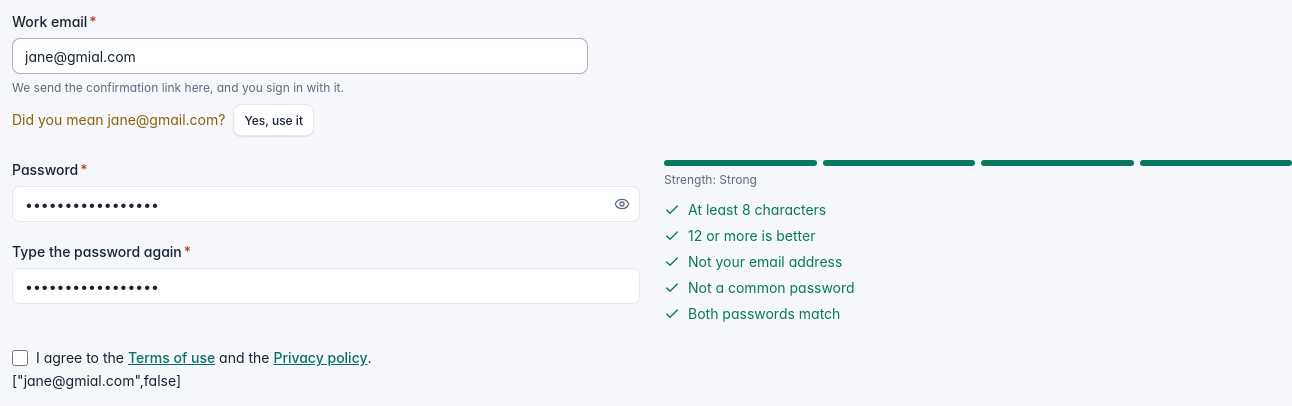
Test: step 3: your account › suggests the right domain for a typo and applies it on request
The image size is (1292, 406).
Check: the text "Did you mean jane@gmail.com?" is shown, box 12,111 -> 225,128
Click the button "Yes, use it" at point(274, 120), box 233,104 -> 314,136
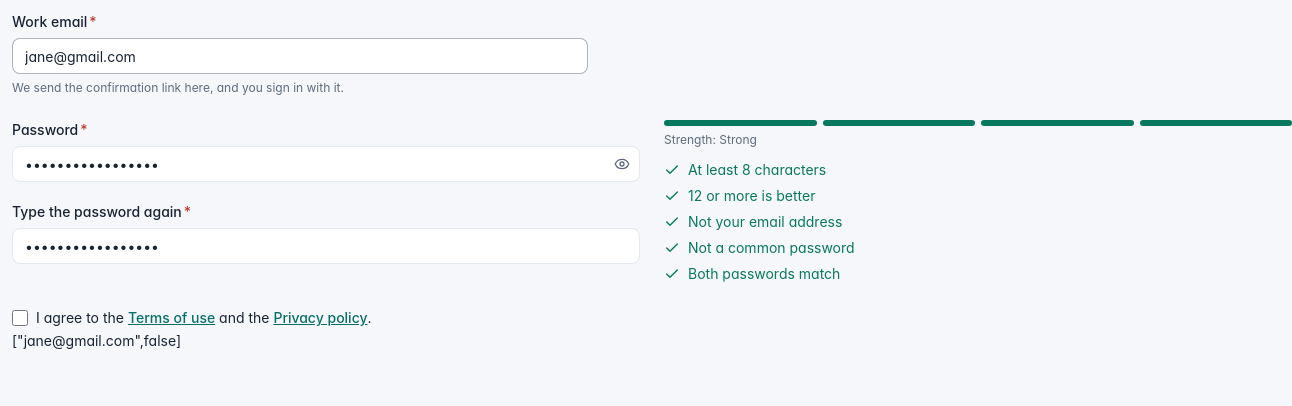
Check: the field labelled "Work email*" holds "jane@gmail.com", box 12,38 -> 588,74
